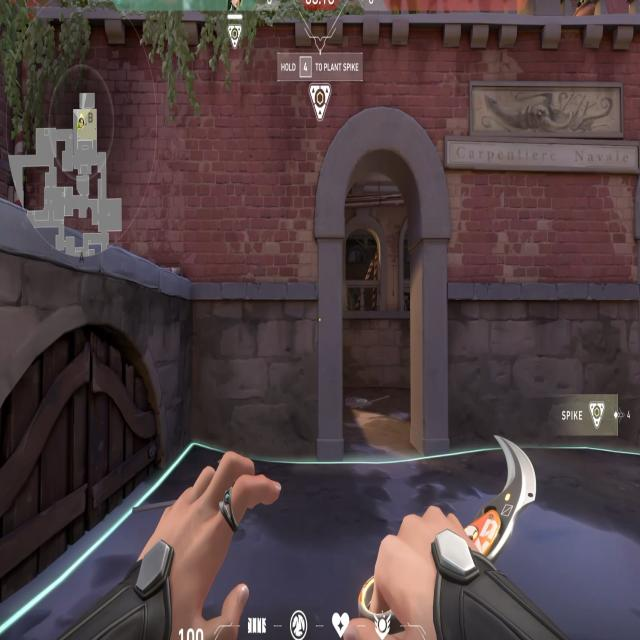B_Boathouse: (299, 70, 458, 468)
